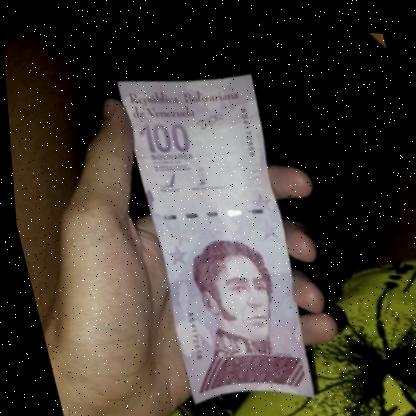one_hundred-front-vef: (108, 56, 326, 412)
